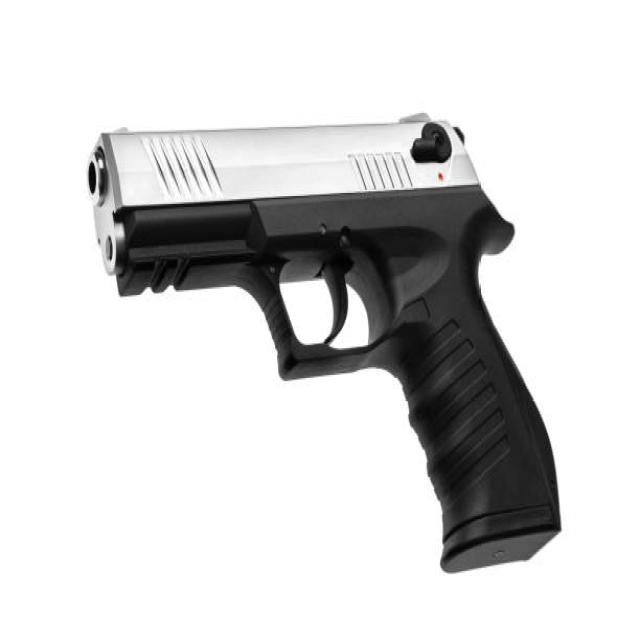pistol: (79, 99, 568, 577)
